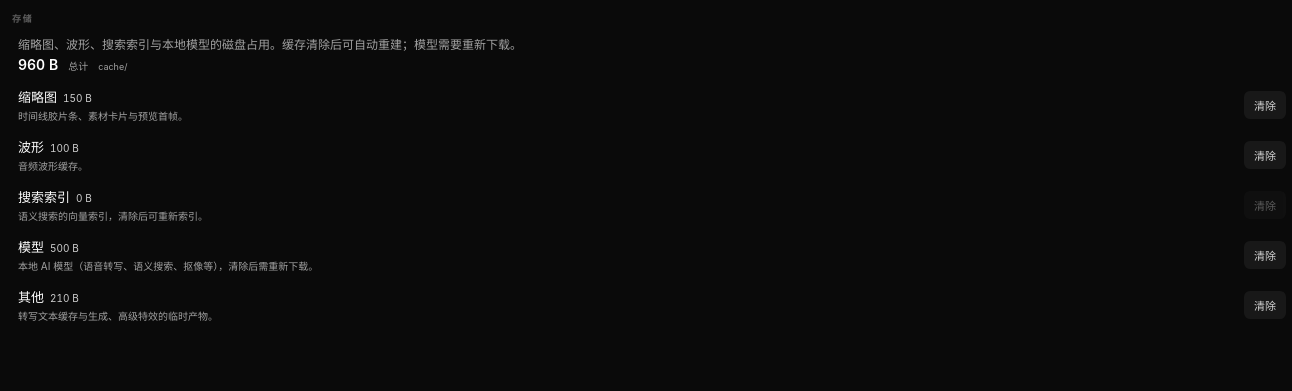
Test case: removes the confirmation synchronously when reduced motion is requested
Click the button "清除" in the row of "本地 AI 模型（语音转写、语义搜索、抠像等），清除后需重新下载。".
click(1265, 255)  # box 1244,241 -> 1286,269
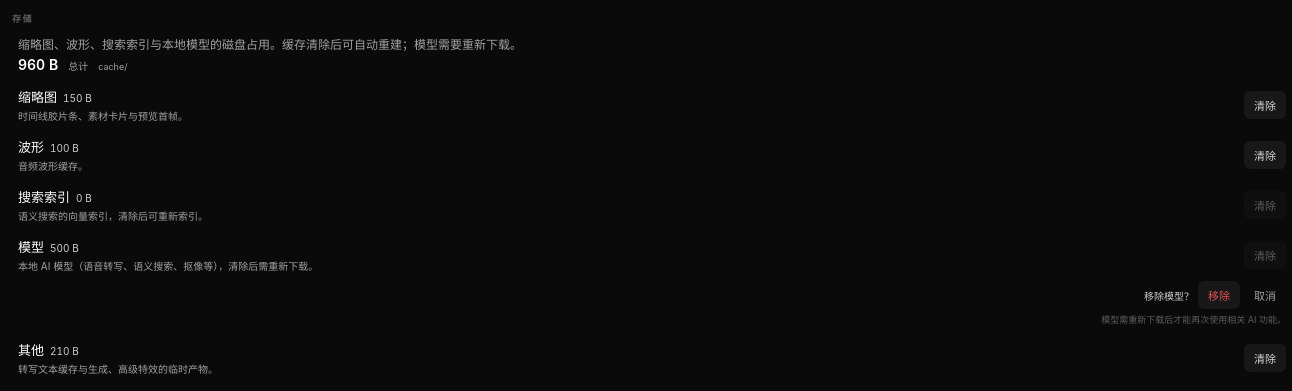
Click the button "取消".
click(1265, 295)  # box 1244,281 -> 1286,309
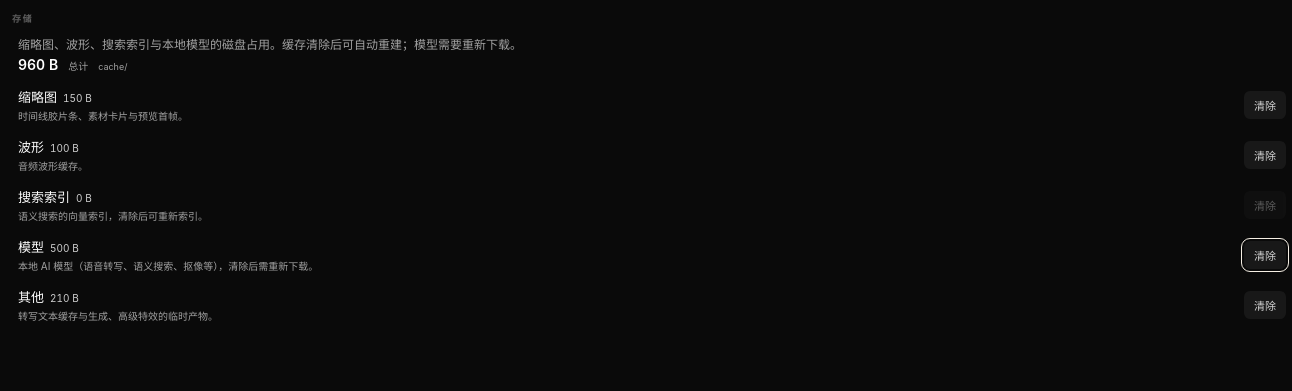
Expected: the element with class "reveal" is gone
